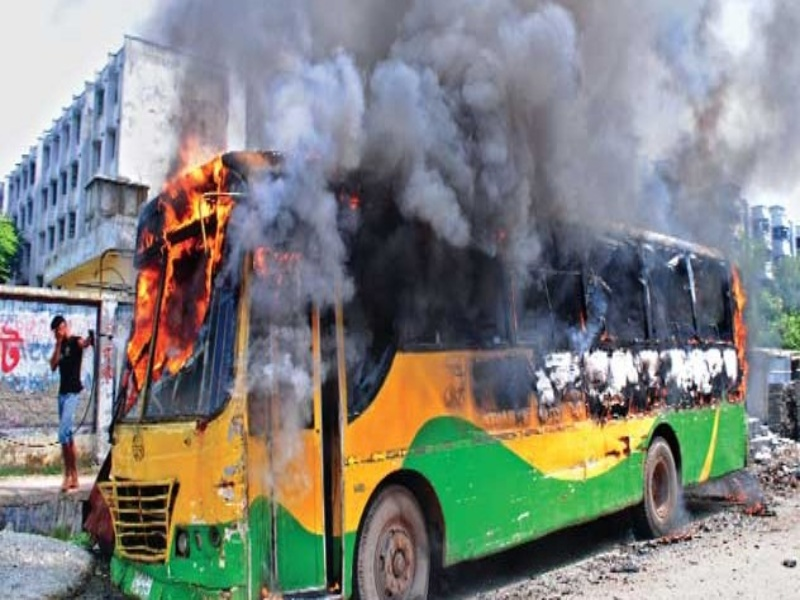smoke: (179, 3, 746, 232)
